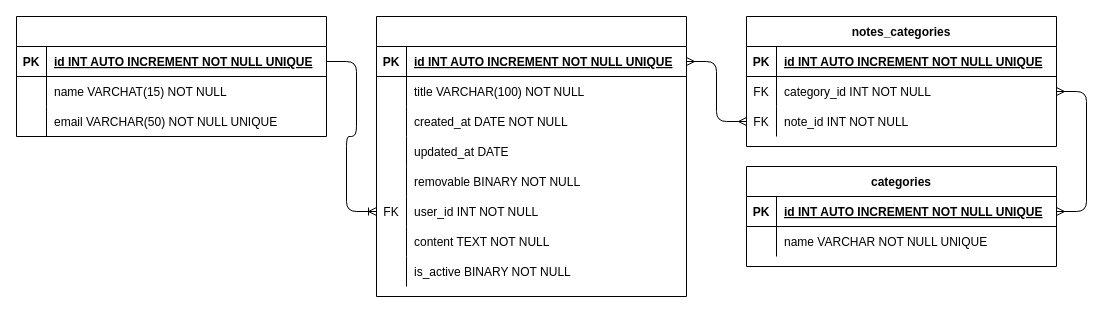
Image size: 1103x313. Some labels were removed from this diagram. The shapes that lost their labels are listed below. From the top down, each one's box as (x1, y1, x2, y2) in pixels, then its label:
(16, 16, 326, 136): users
(376, 16, 686, 296): notes
